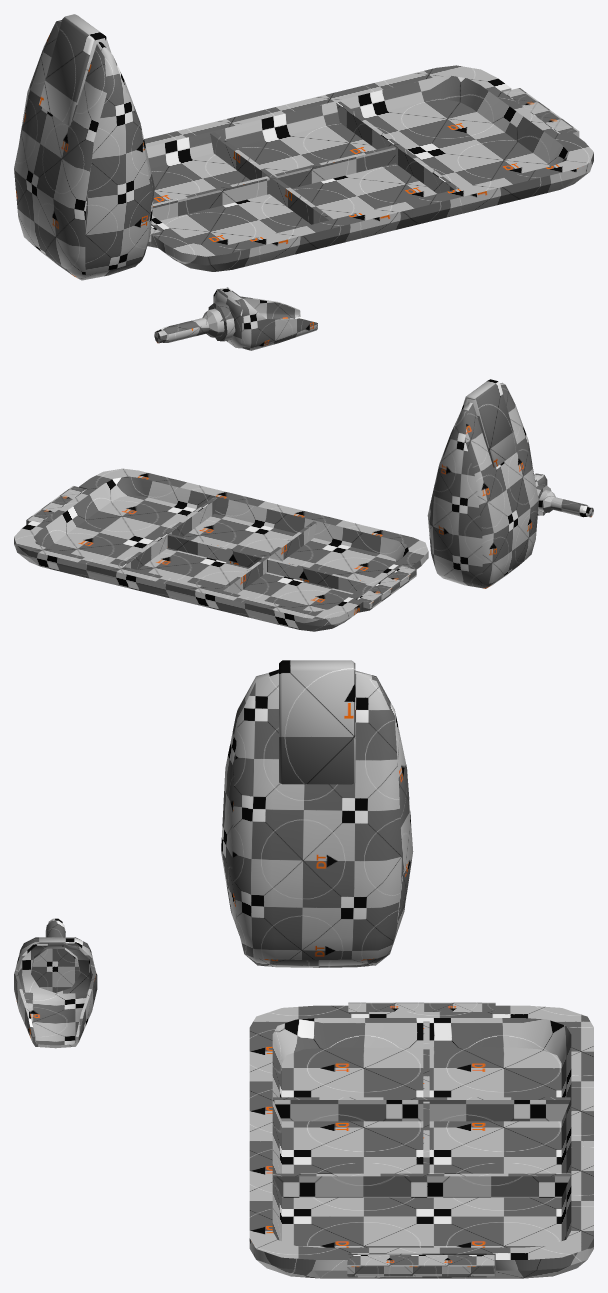
Rendered from Props_01.FBX.
3 views of the same model, one above another, from view 1: azimuth 30°, elevation 25°; view 2: azimuth 150°, elevation 25°; view 3: azimuth 270°, elevation 25° (orthographic). The views are drawn at different scales.
Parts seen in each view (by area): view 1: Object34355, Object34358, Object34376; view 2: Object34355, Object34358, Object34376; view 3: Object34355, Object34358, Object34376.
Boxes of the visible parts, x1,y1,x2,y2 form: Object34355: (144, 65, 593, 271); Object34358: (14, 14, 154, 280); Object34376: (154, 287, 317, 350); Object34355: (14, 468, 428, 631); Object34358: (427, 379, 538, 588); Object34376: (534, 473, 593, 517); Object34355: (249, 1002, 593, 1278); Object34358: (221, 660, 413, 967); Object34376: (14, 918, 97, 1048).
Size of the model in its own units: 35.45 by 15.81 by 25.94.
